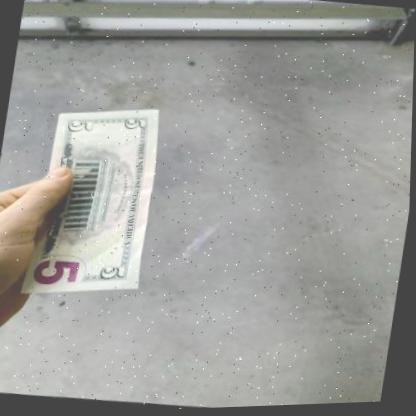dollar_back: (22, 111, 162, 294)
